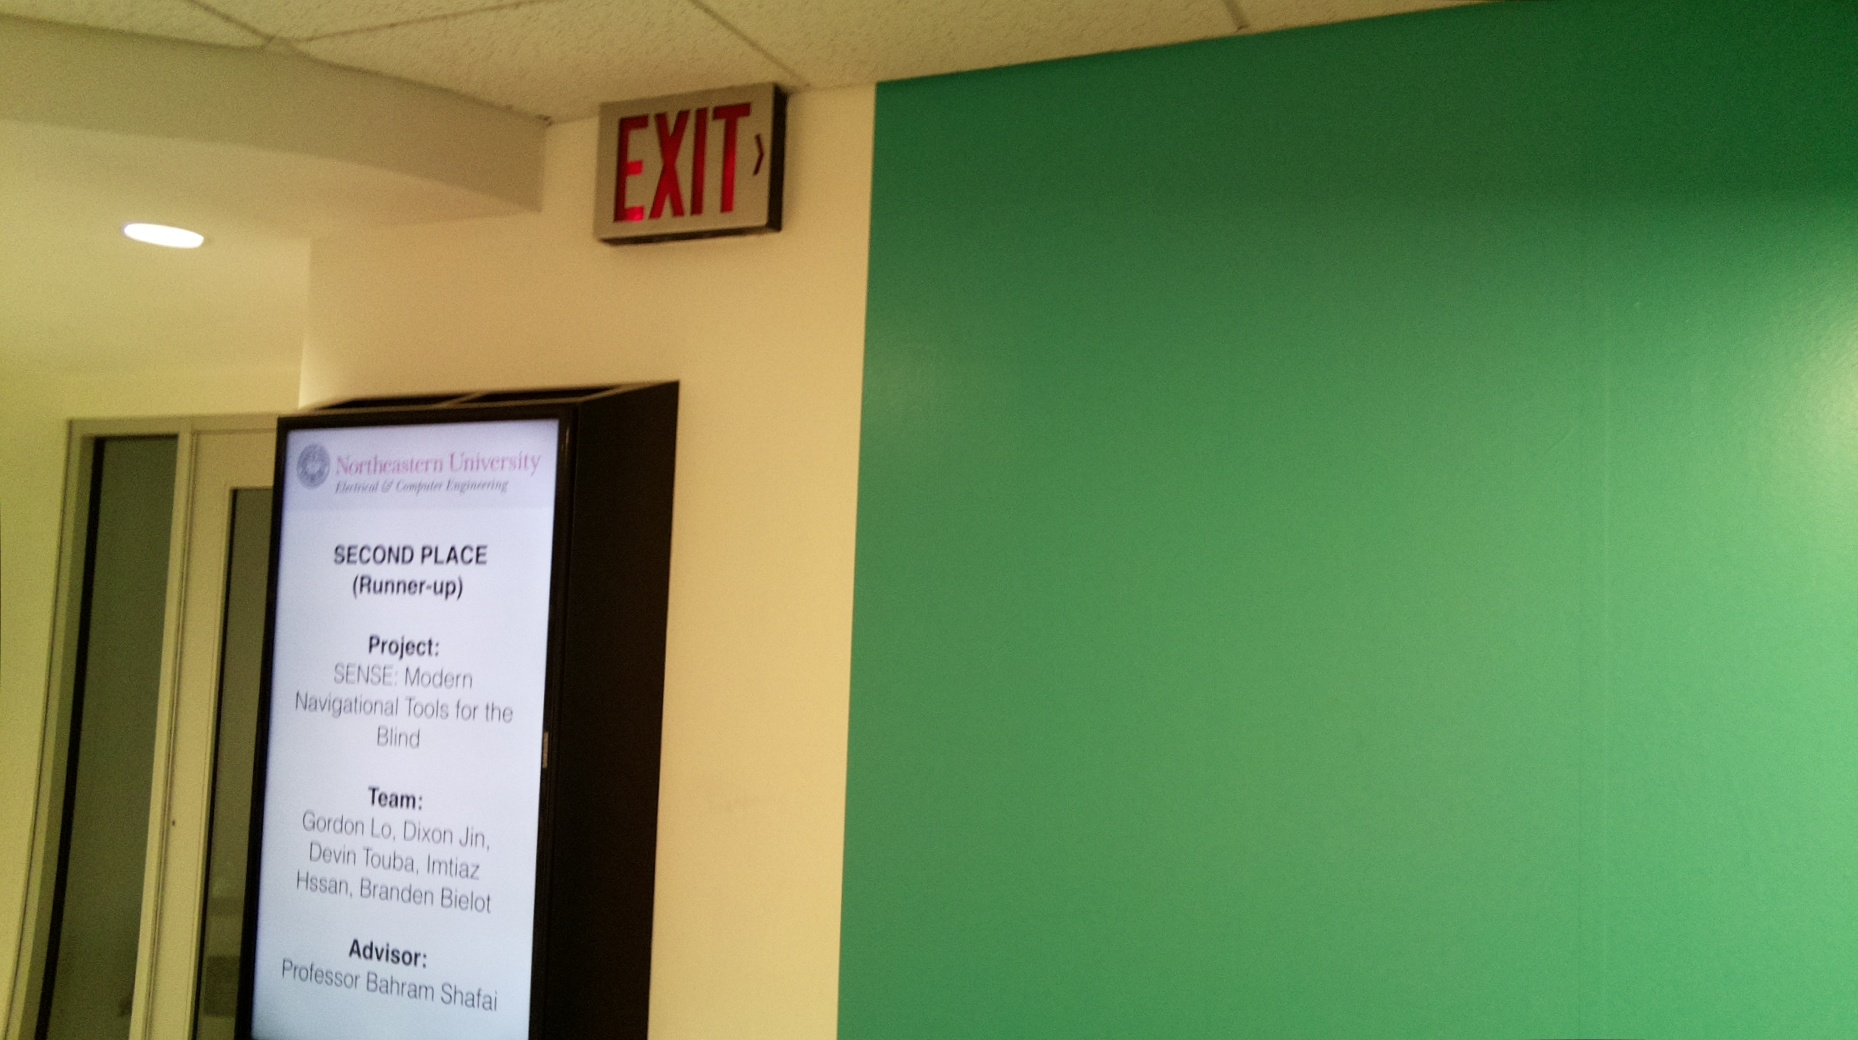exit sign: (590, 71, 794, 251)
